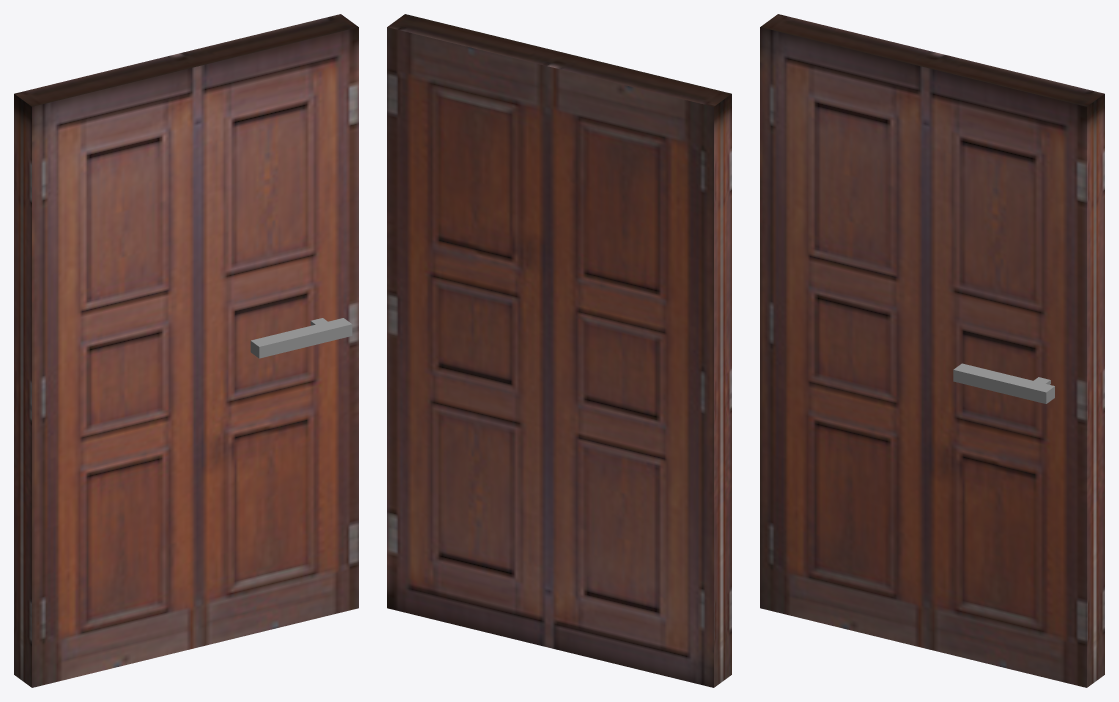
The model's file is Door1Mesh.fbx.
The picture shows the model from 3 angles, left to right: view 1: azimuth 30°, elevation 25°; view 2: azimuth 150°, elevation 25°; view 3: azimuth 330°, elevation 25°; orthographic projection.
Visible parts, largest first — view 1: pCube1, pCube2; view 2: pCube1; view 3: pCube1, pCube2.
Part boxes in pixels (<box>): pCube1: <box>14,14,358,687</box>; pCube2: <box>250,318,352,358</box>; pCube1: <box>387,14,731,687</box>; pCube1: <box>760,14,1104,687</box>; pCube2: <box>953,363,1054,403</box>.
Size of the model in its own units: 5.05 by 8.58 by 0.9353.
1 material, 1 textured.
